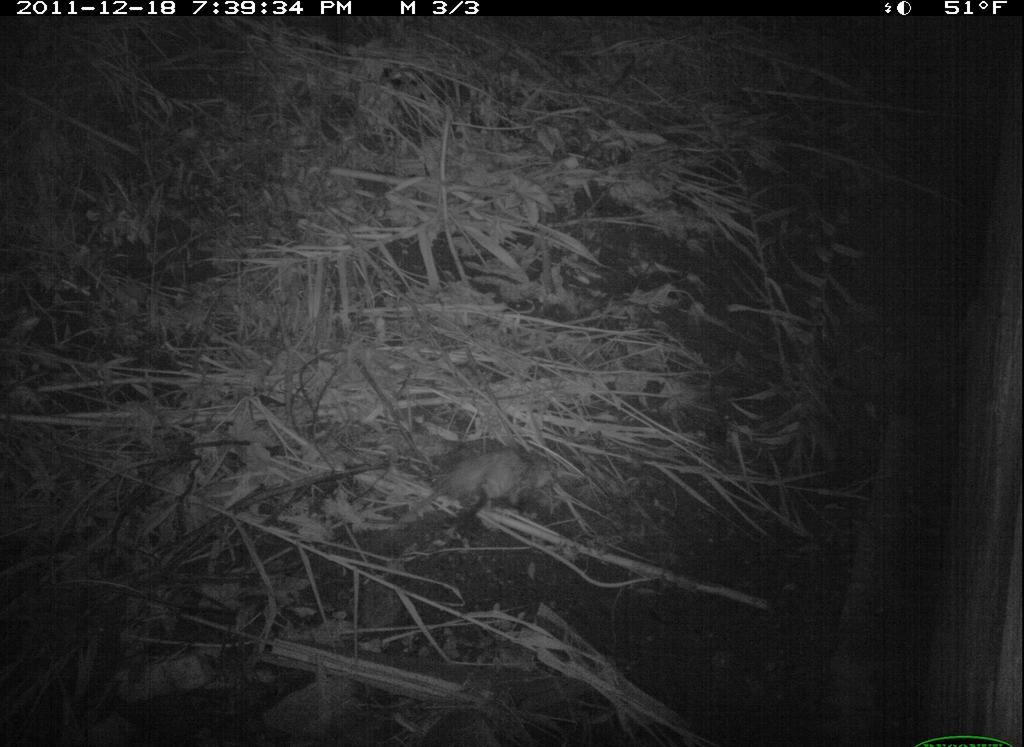opossum: (390, 445, 568, 542)
